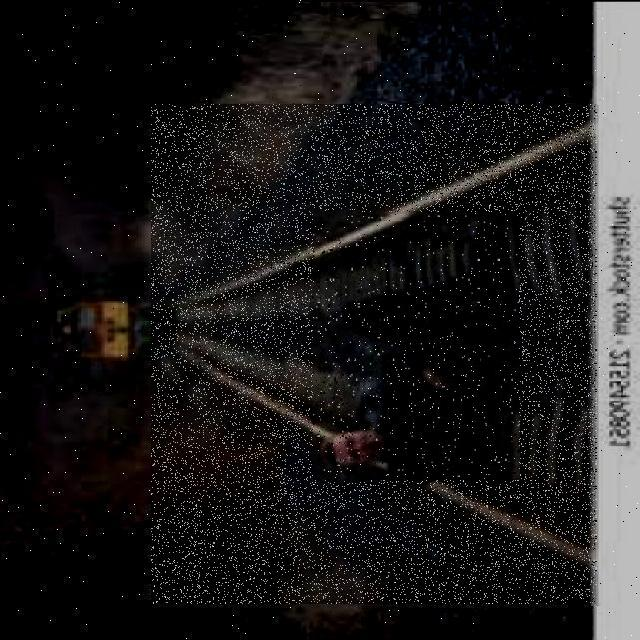rail: (152, 106, 597, 605)
